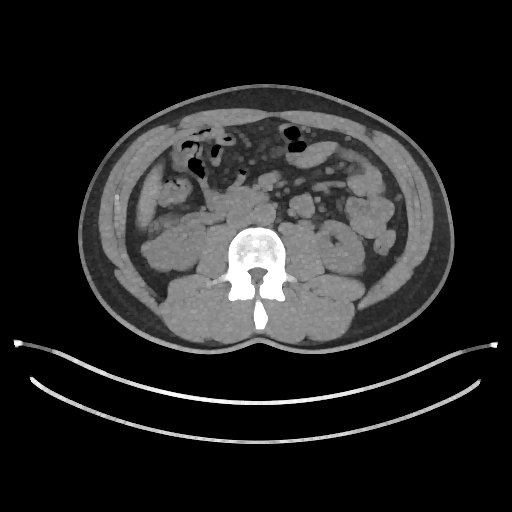Lesion: (138, 239, 166, 261)
